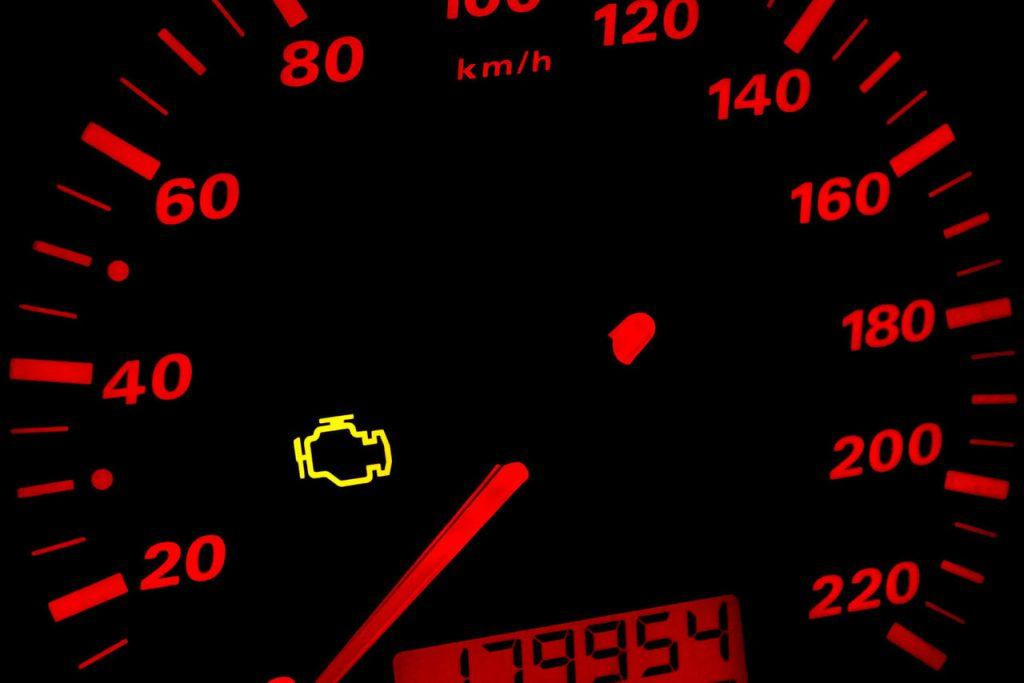ABS: (288, 407, 397, 494)
